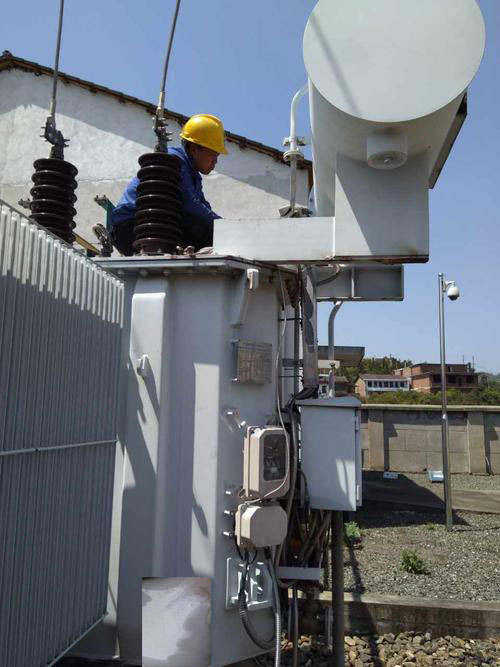oil: (142, 578, 211, 660)
